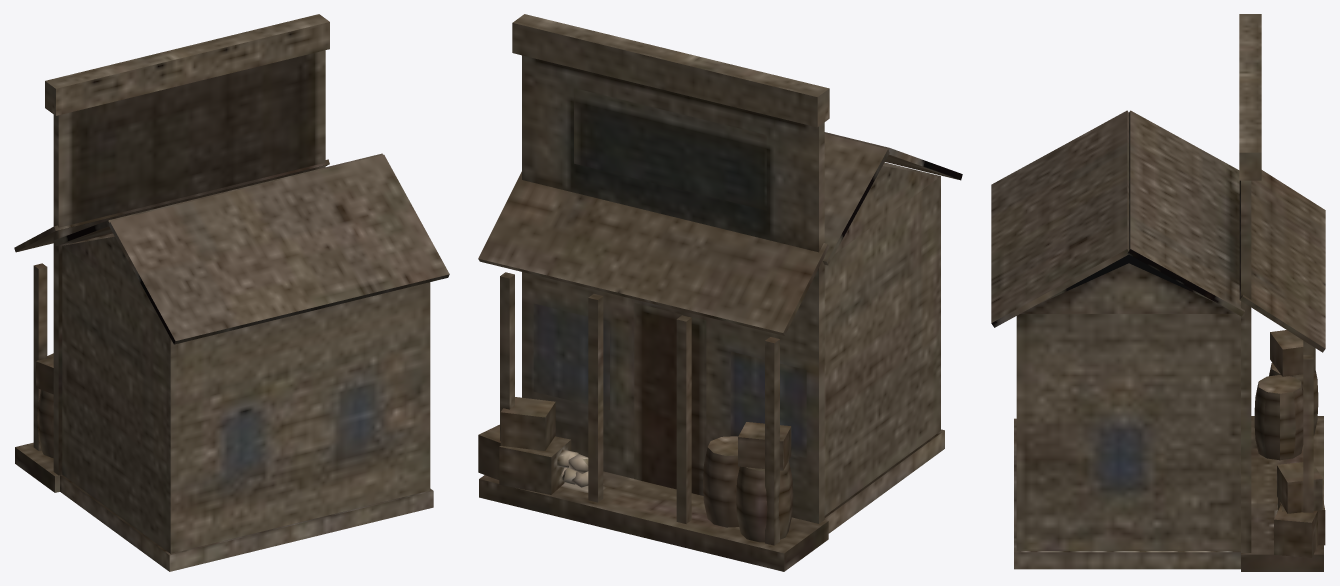
File: b_shop_far.glb
The picture shows the model from 3 angles, left to right: view 1: azimuth 30°, elevation 25°; view 2: azimuth 150°, elevation 25°; view 3: azimuth 270°, elevation 25°; orthographic projection. The views are drawn at different scales.
Visible parts, largest first — view 1: b_shop_far; view 2: b_shop_far; view 3: b_shop_far.
Boxes of the visible parts, x1,y1,x2,y2 form: b_shop_far: (14,14,449,571); b_shop_far: (478,14,962,571); b_shop_far: (991,14,1325,571).
Size of the model in its own units: 3.89 by 5.36 by 3.87.
Materials: 1 (1 with a texture image).
